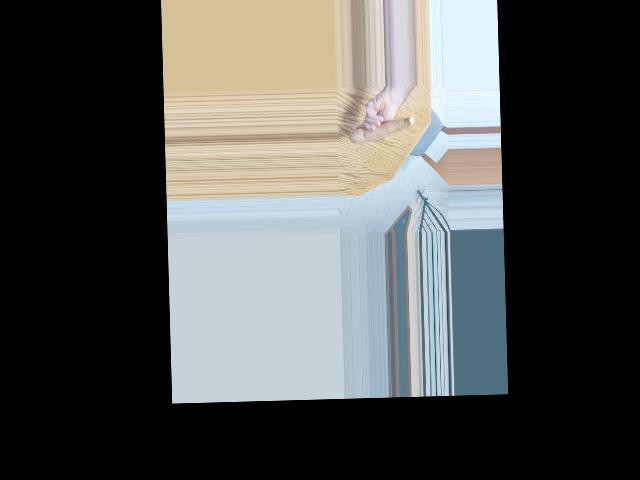sweet_potato: (351, 114, 416, 147)
